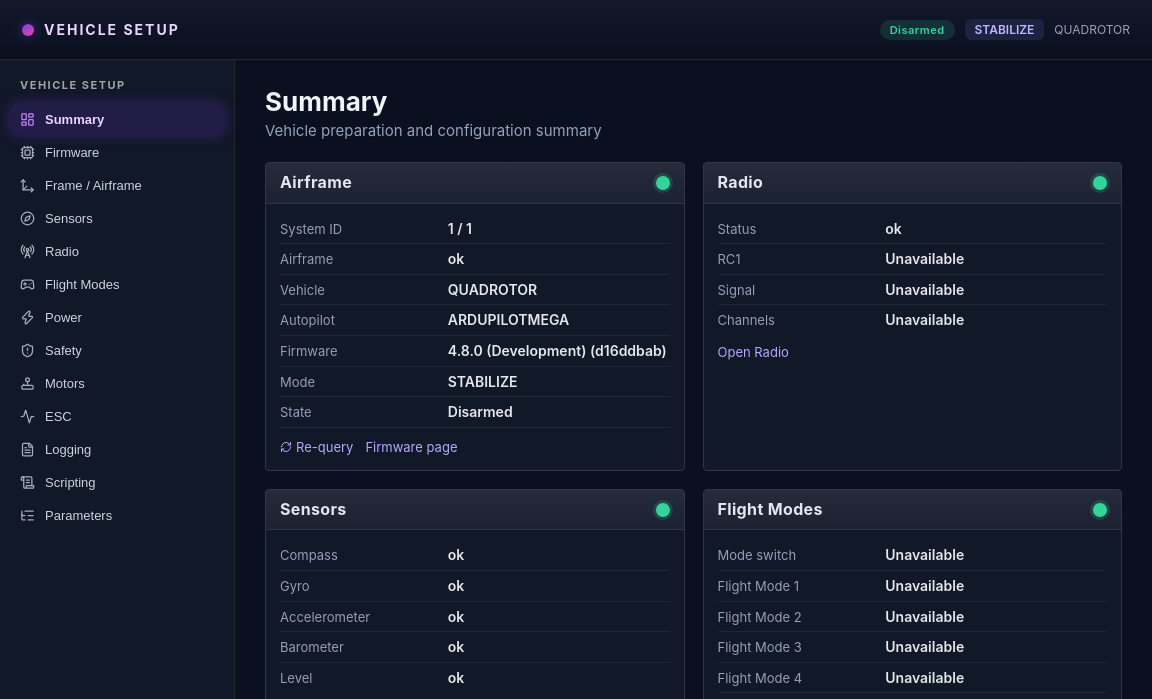
Scenario: SetupConfig — shell and navigation › navigates to the Firmware page
Click the button with test id "setup-nav-firmware" at (117, 152), box [10,137,224,168]
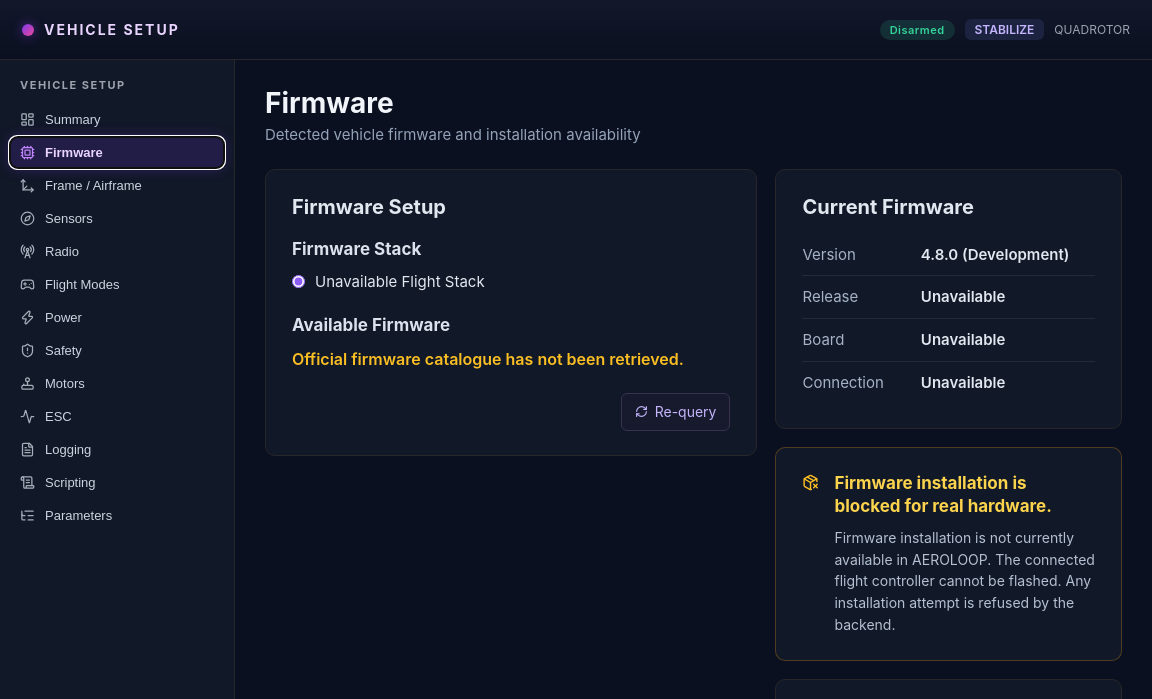
Now the element with test id "setup-firmware-workflow" is shown, box [265,168,758,456]
